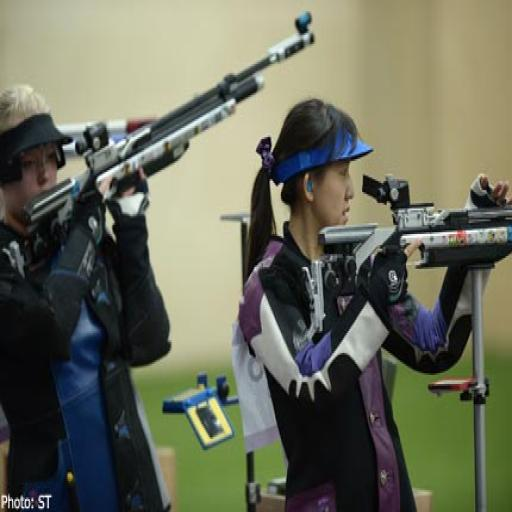shooting: (232, 95, 511, 510), (0, 82, 174, 510)
